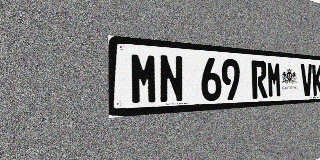6: (201, 57, 222, 101)
9: (221, 58, 240, 100)
K: (312, 64, 320, 96)
M: (130, 52, 158, 105), (267, 61, 282, 98)
N: (159, 54, 184, 104)
R: (251, 60, 267, 99)
V: (301, 64, 313, 96)
